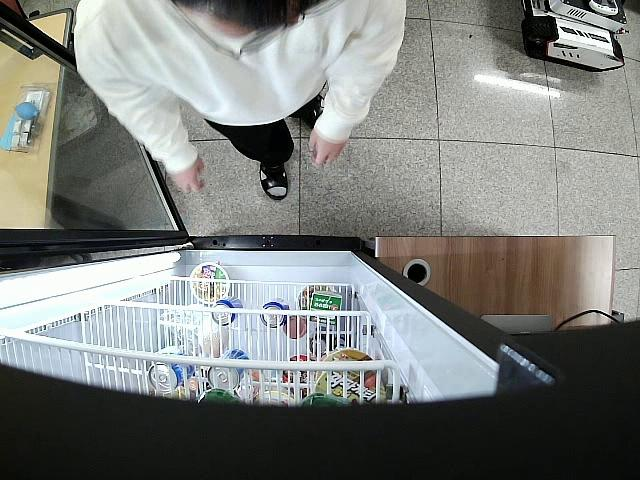00_hand: (306, 129, 348, 168)
